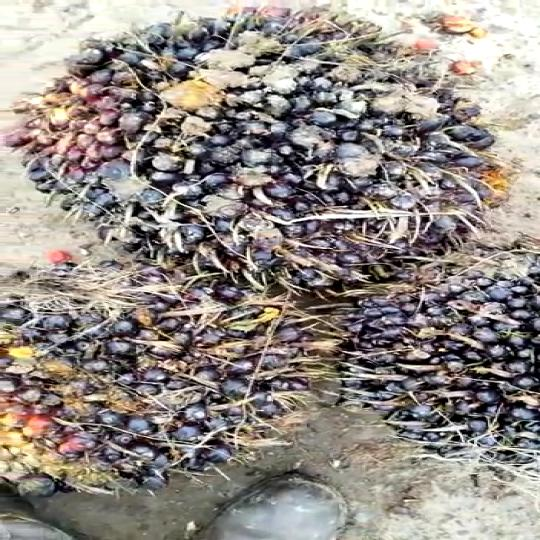mentah: (27, 0, 540, 286), (0, 283, 327, 492), (294, 275, 540, 466)
